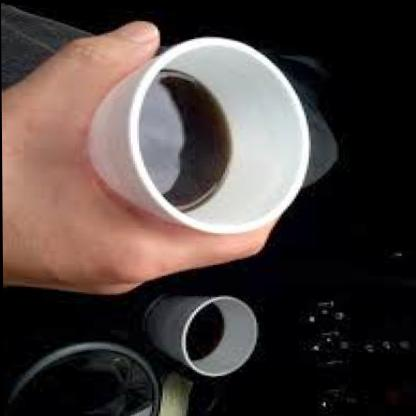Plastic: (92, 27, 323, 226), (139, 285, 268, 397)
